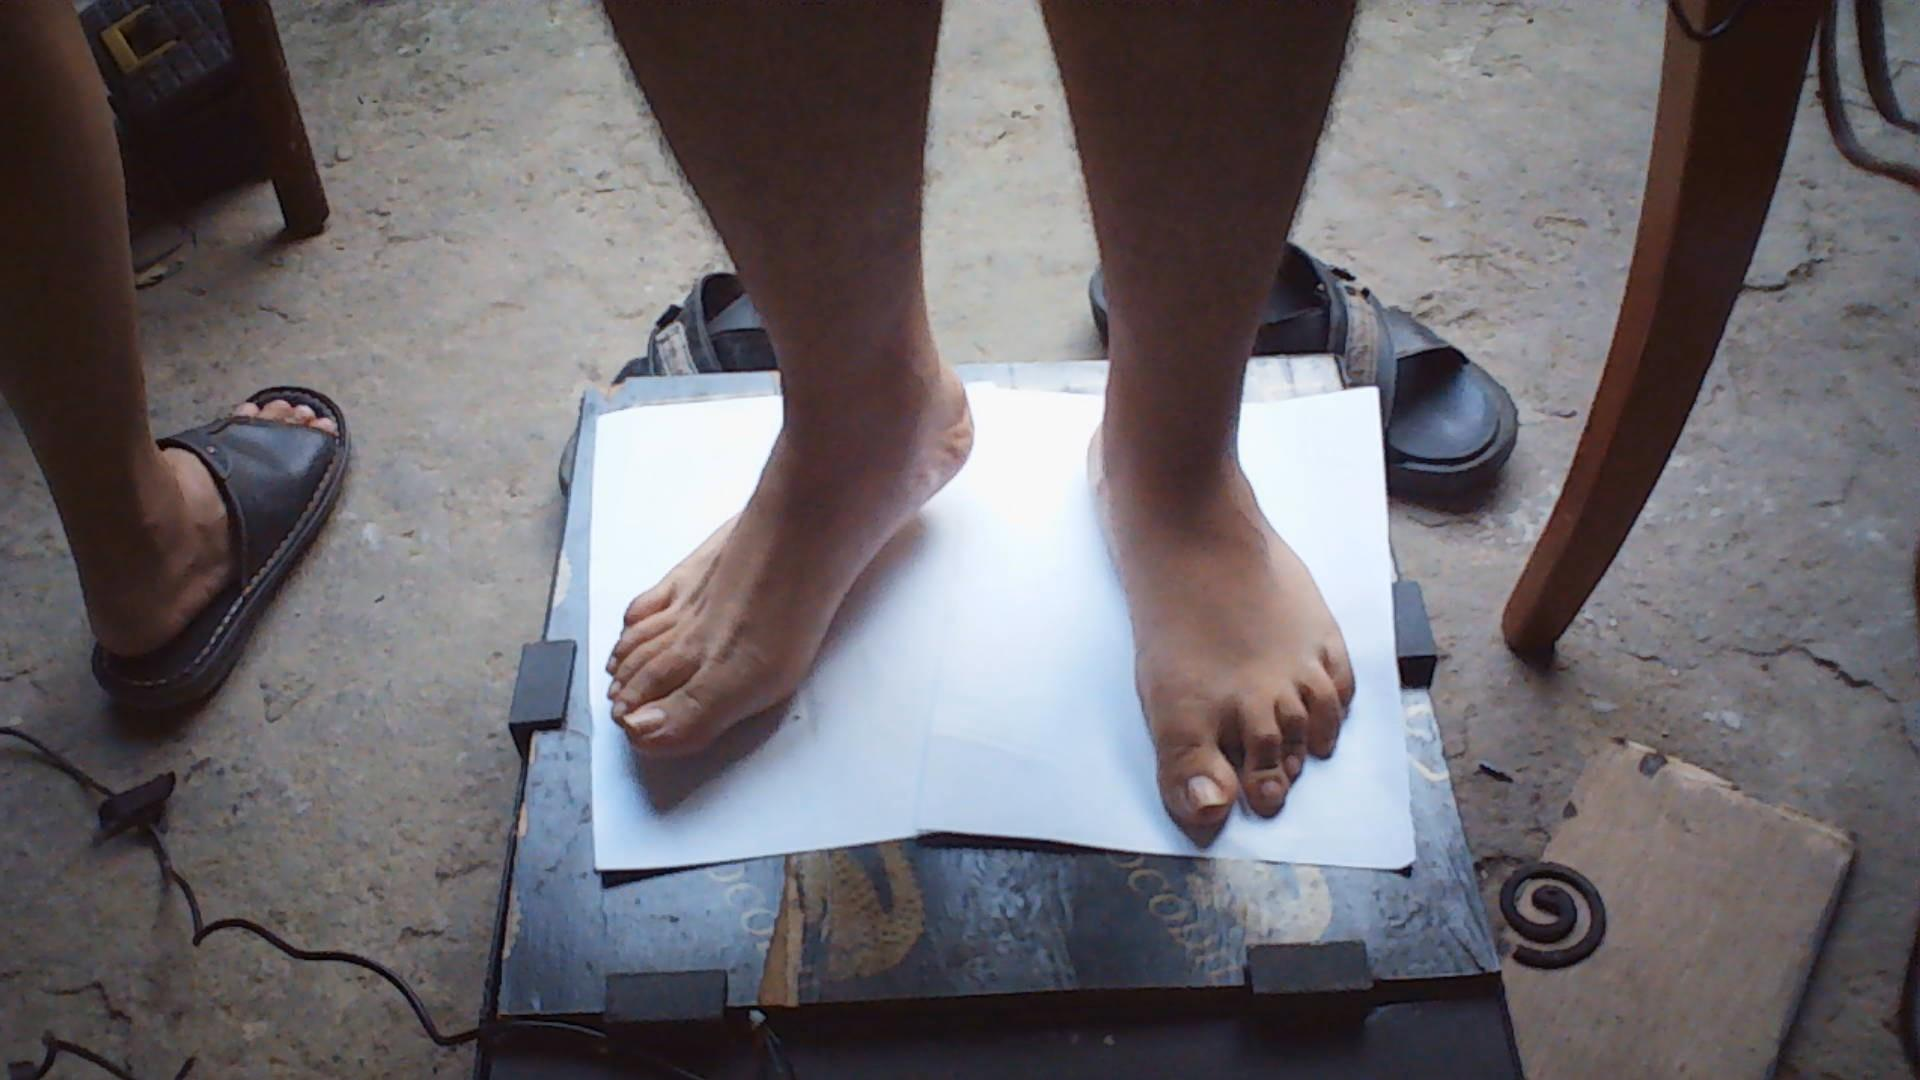Bare_feet: (1056, 389, 1364, 857), (600, 405, 993, 752)
